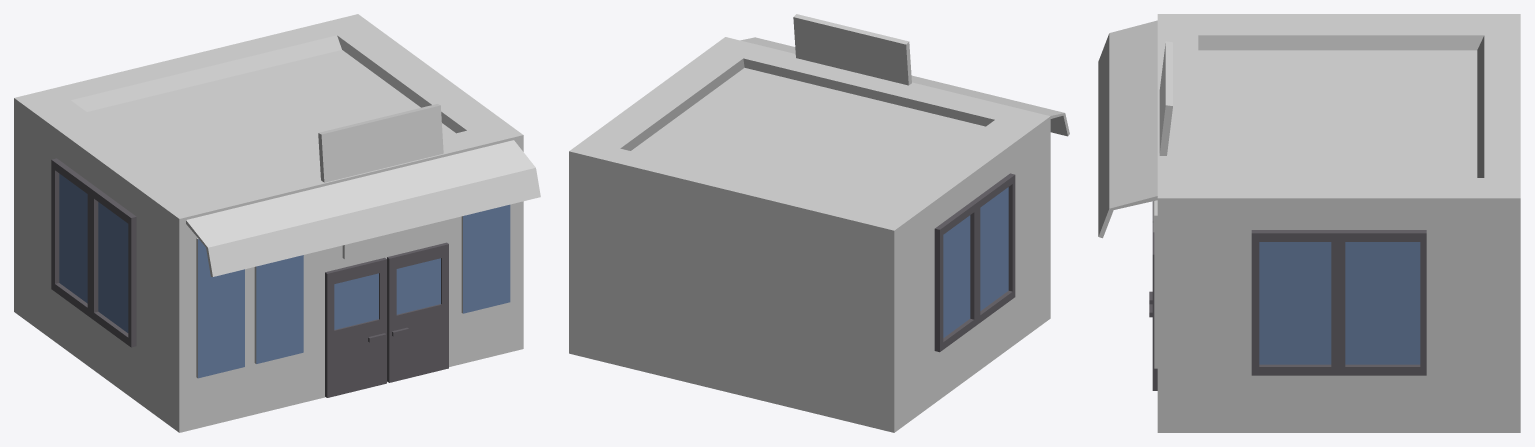
The model's file is SimpleStore.fbx.
The picture shows the model from 3 angles, left to right: view 1: azimuth 30°, elevation 25°; view 2: azimuth 150°, elevation 25°; view 3: azimuth 270°, elevation 25°; orthographic projection. The views are drawn at different scales.
Visible parts, largest first — view 1: SimpleStore.003, SimpleStore, SimpleStore.002, SimpleStore.001; view 2: SimpleStore.003, SimpleStore, SimpleStore.001, SimpleStore.002; view 3: SimpleStore.003, SimpleStore, SimpleStore.002, SimpleStore.001.
Boxes of the visible parts, bbox=[...] form: SimpleStore.003: bbox=[14, 14, 523, 432]; SimpleStore: bbox=[51, 158, 510, 397]; SimpleStore.002: bbox=[186, 140, 540, 276]; SimpleStore.001: bbox=[318, 104, 443, 259]; SimpleStore.003: bbox=[569, 37, 1050, 432]; SimpleStore: bbox=[934, 173, 1015, 352]; SimpleStore.001: bbox=[793, 14, 911, 85]; SimpleStore.002: bbox=[740, 37, 1069, 136]; SimpleStore.003: bbox=[1157, 14, 1520, 432]; SimpleStore: bbox=[1149, 200, 1426, 390]; SimpleStore.002: bbox=[1098, 20, 1157, 238]; SimpleStore.001: bbox=[1153, 41, 1172, 232].
Bounding box in the file's own units: 972 × 679 × 910.
